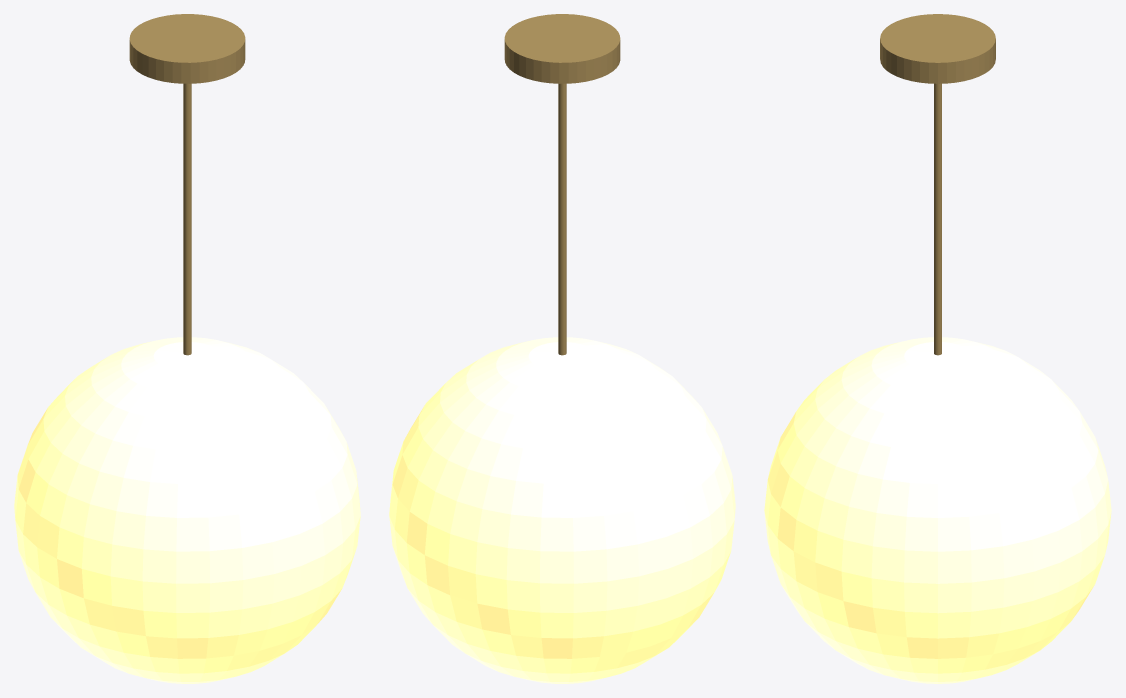
The model's file is 02_pendant_globe.glb.
The picture shows the model from 3 angles, left to right: view 1: azimuth 30°, elevation 25°; view 2: azimuth 150°, elevation 25°; view 3: azimuth 270°, elevation 25°; orthographic projection.
Size of the model in its own units: 0.3 by 0.6 by 0.3.
